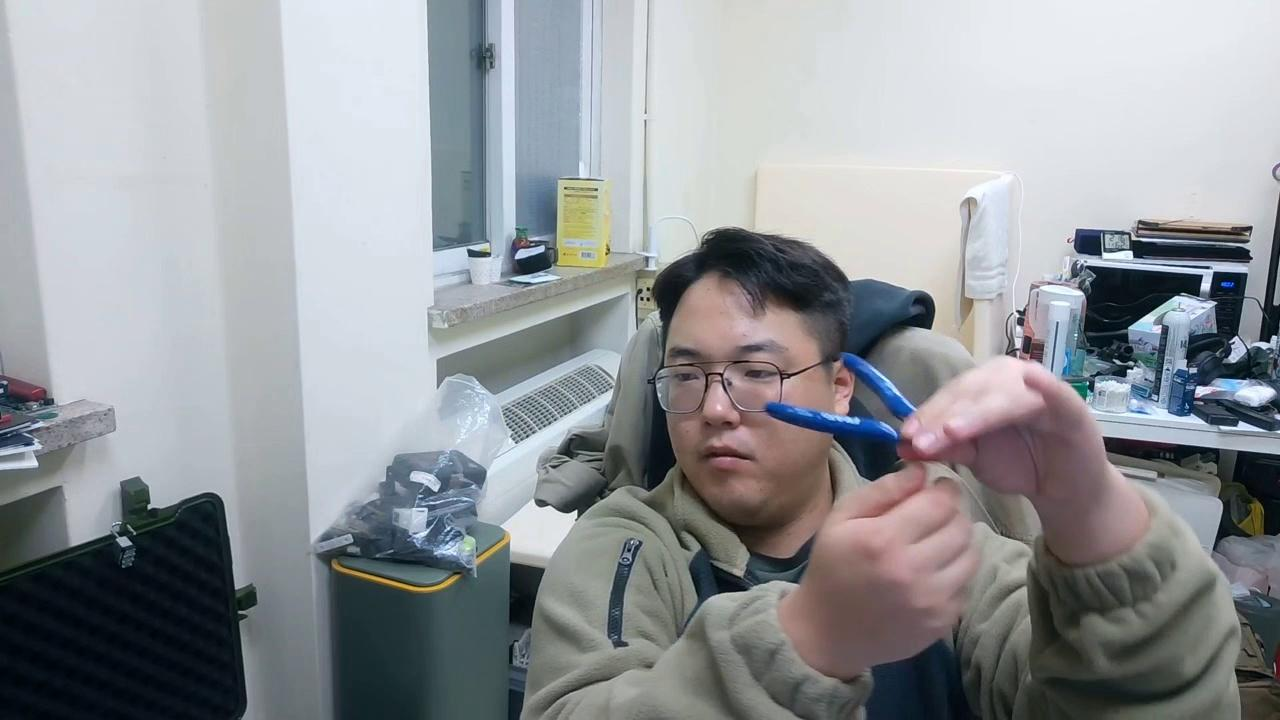blue_pliers: (764, 350, 921, 446)
